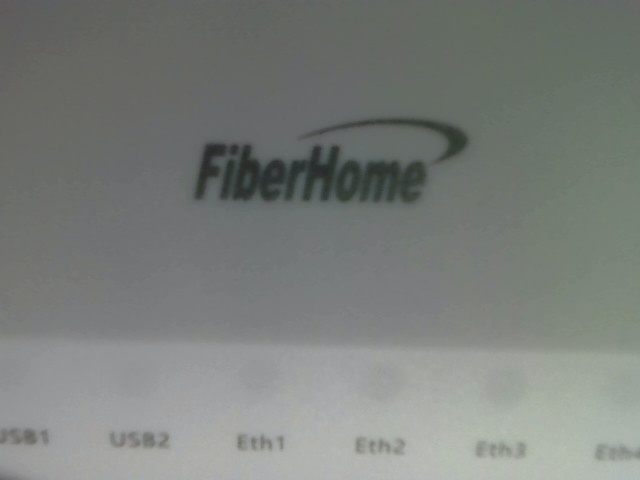AI_FiberHome: (171, 105, 471, 218)
